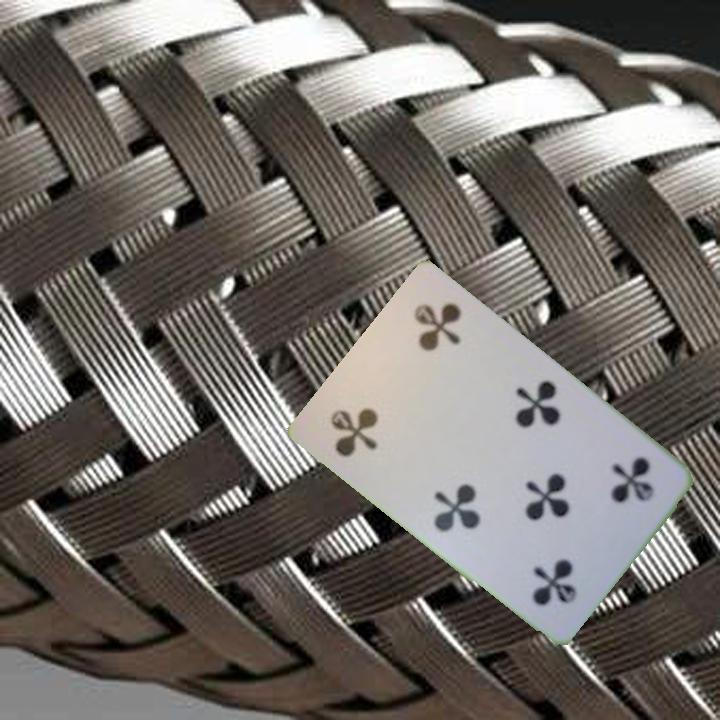c_7.png: (550, 427, 677, 556), (307, 353, 434, 482)
